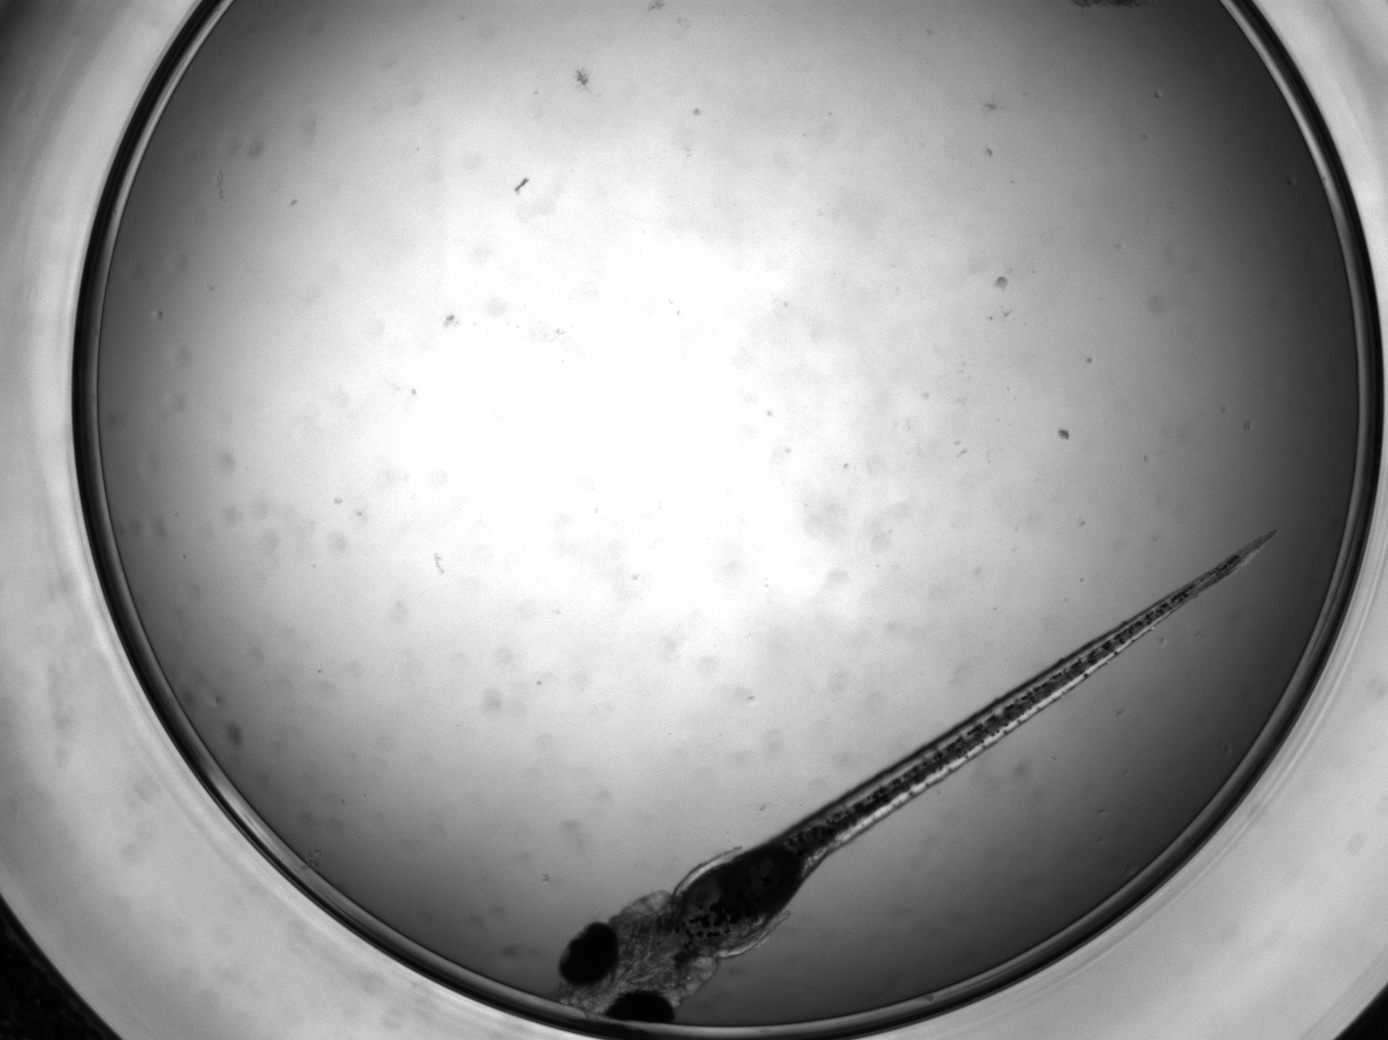embryo: (554, 527, 1282, 1026)
eye: (558, 921, 620, 986), (604, 991, 675, 1025)
yolksac: (675, 841, 805, 956)
